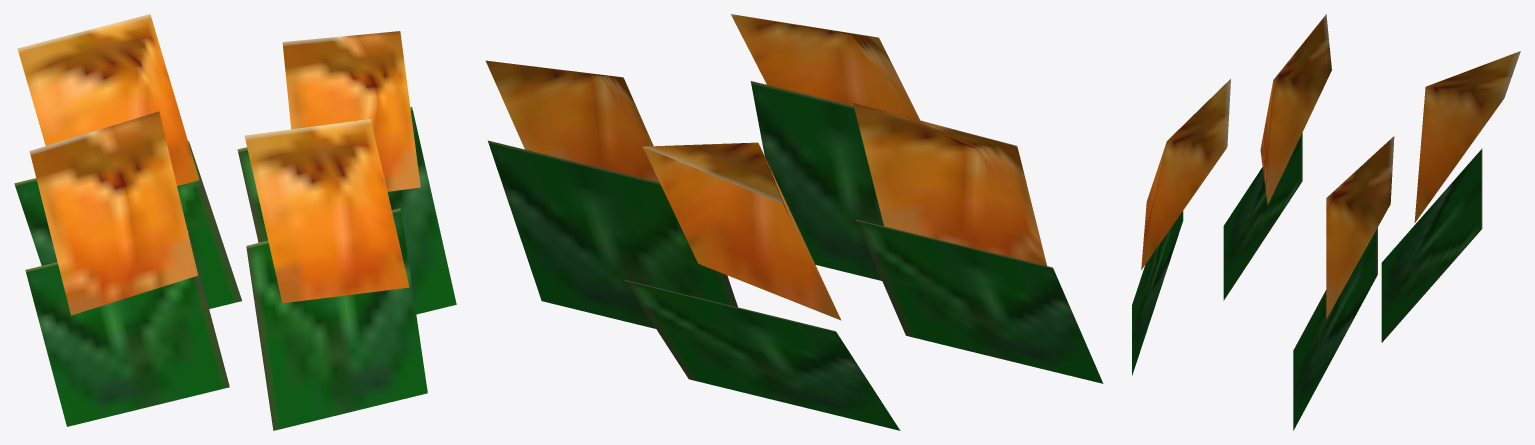
Rendered from flw_tulip_or.dae.
The picture shows the model from 3 angles, left to right: view 1: azimuth 30°, elevation 25°; view 2: azimuth 150°, elevation 25°; view 3: azimuth 270°, elevation 25°; orthographic projection. The views are drawn at different scales.
Visible parts, largest first — view 1: flw_tulip_or; view 2: flw_tulip_or; view 3: flw_tulip_or.
Part boxes in pixels (bbox=[...]): flw_tulip_or: bbox=[14, 14, 456, 430]; flw_tulip_or: bbox=[486, 14, 1103, 430]; flw_tulip_or: bbox=[1132, 14, 1520, 430].
Bounding box in the file's own units: 30.95 × 17.79 × 25.83.
1 material, 1 textured.
